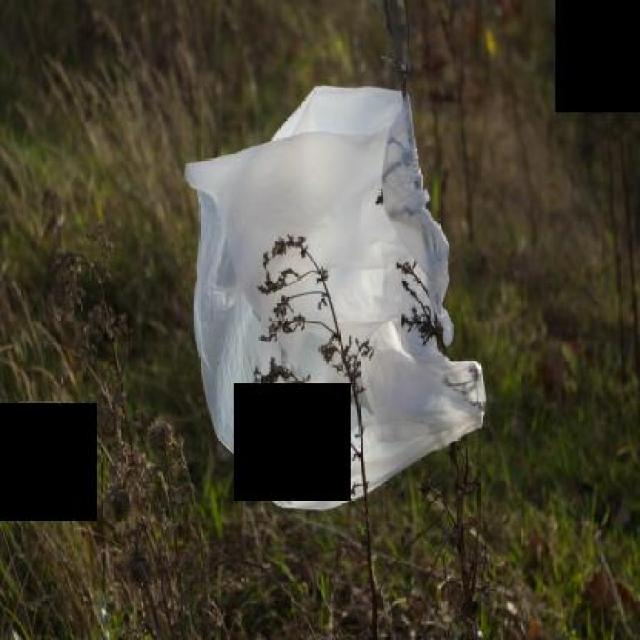plastic bag: (183, 81, 483, 512)
